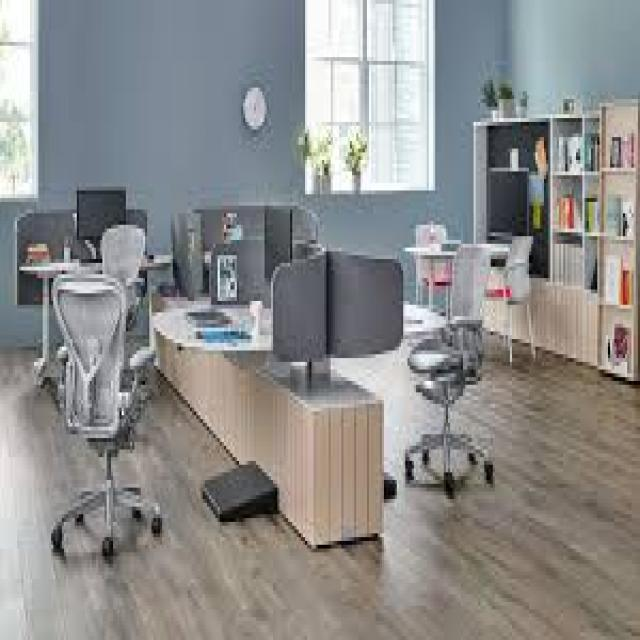chair: (43, 262, 171, 578), (400, 220, 502, 540), (82, 211, 156, 381), (490, 215, 543, 398), (398, 203, 453, 309)
